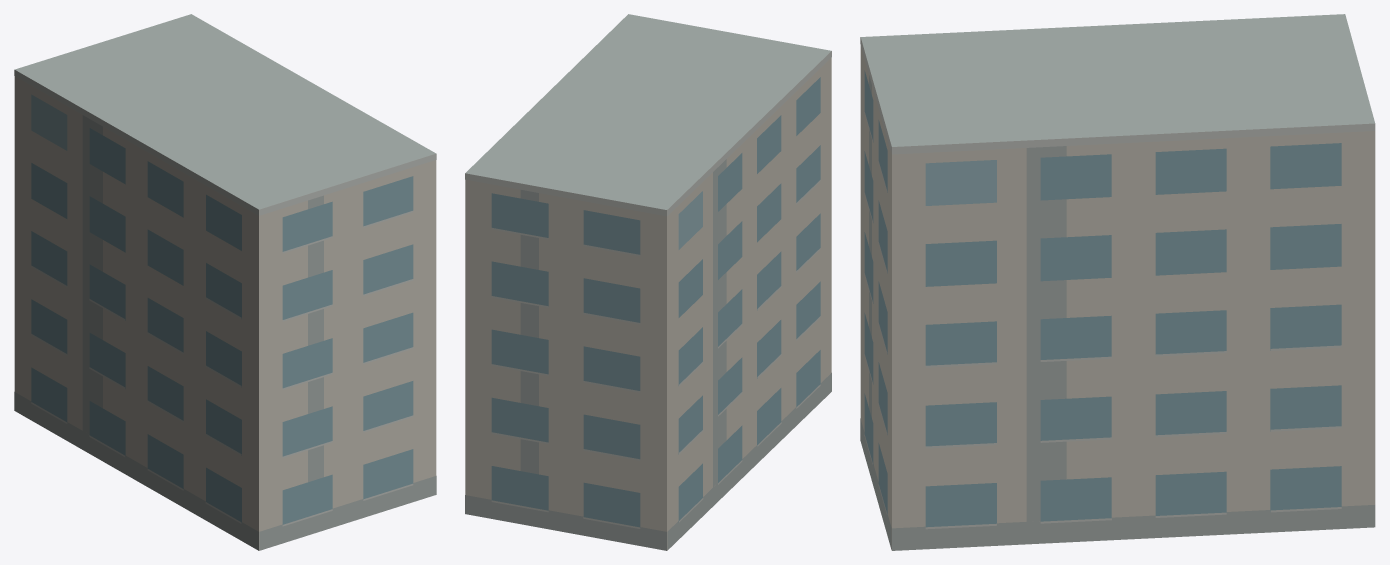
File: survey-upis-32850363.glb
3 renders of one model, left to right at view 1: azimuth 30°, elevation 25°; view 2: azimuth 150°, elevation 25°; view 3: azimuth 270°, elevation 25°, orthographic. The views are drawn at different scales.
Parts seen in each view (by area): view 1: survey-upis-32850363.tmp; view 2: survey-upis-32850363.tmp; view 3: survey-upis-32850363.tmp.
Boxes of the visible parts, bbox=[...] form: survey-upis-32850363.tmp: bbox=[14, 14, 436, 550]; survey-upis-32850363.tmp: bbox=[465, 14, 831, 550]; survey-upis-32850363.tmp: bbox=[860, 14, 1375, 550].
Size of the model in its own units: 9.34 by 13.2 by 15.26.
